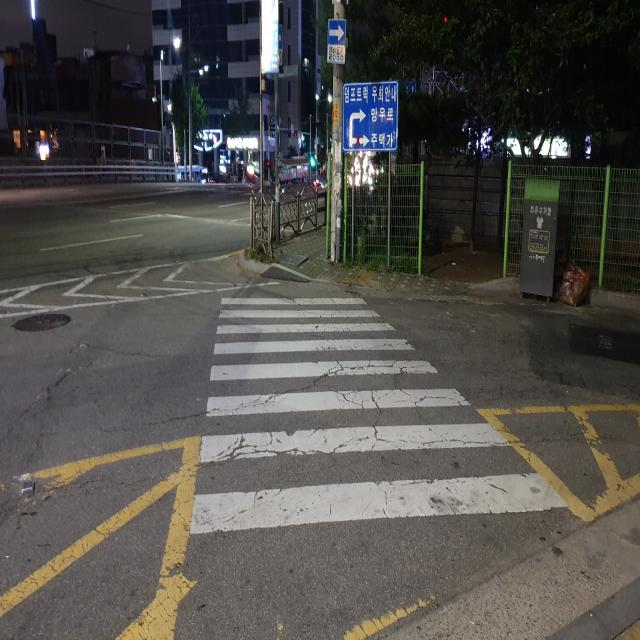횡단보도: (186, 292, 571, 540)
